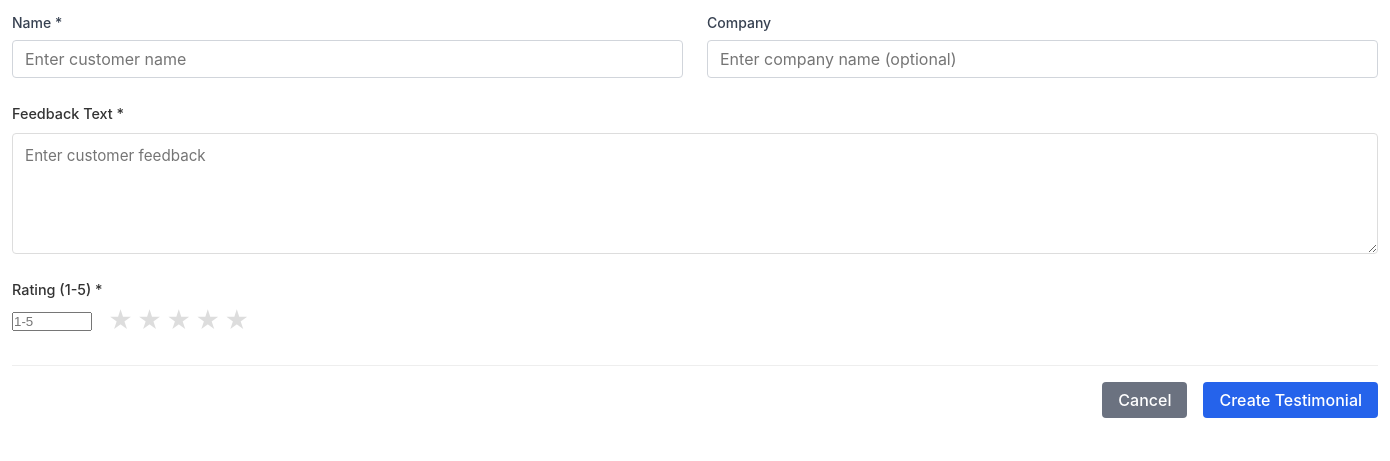
Test case: TestimonialForm - Real-time Validation › should display validation error when rating loses focus with empty value
Focus and blur without entering value
Click the number field labelled "Rating (1-5) *" at (52, 322), box [12,312,92,331]
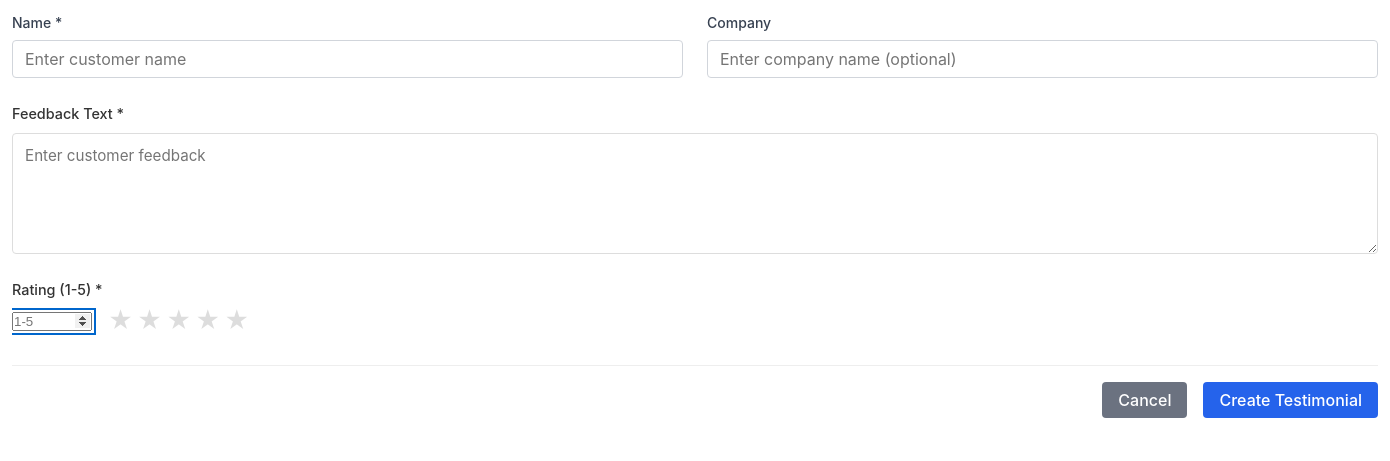
Press Tab
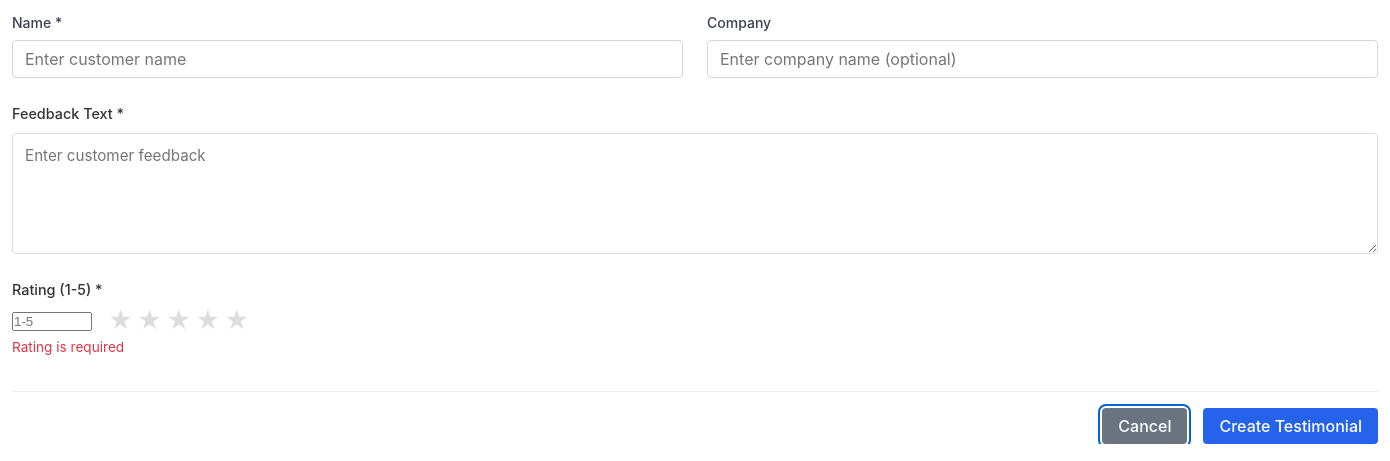
Result: the text "Rating is required" is shown at [12,340,124,356]
